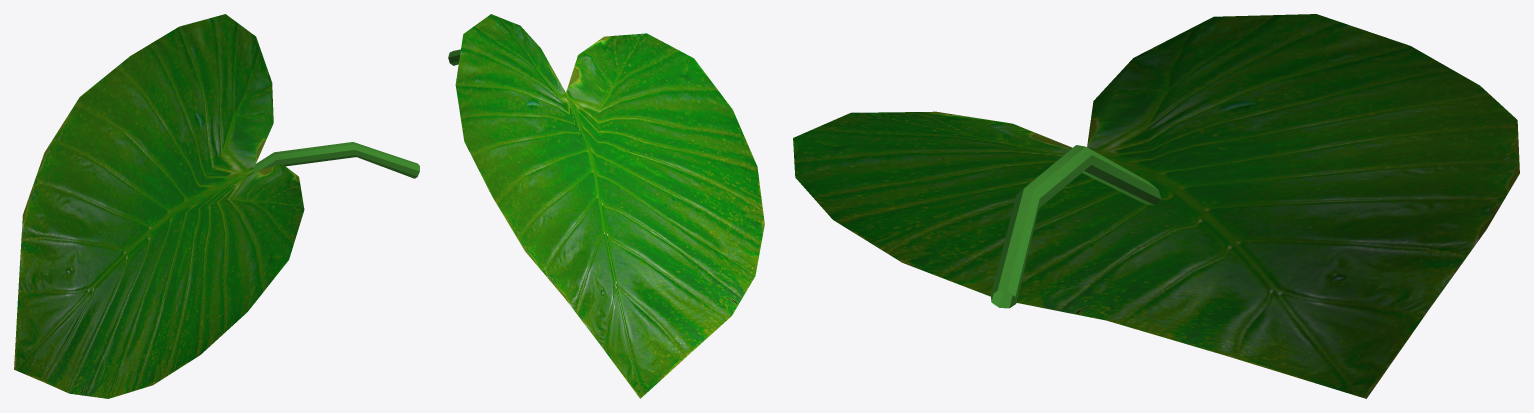
The model's file is env_amazon_leaves_01.fbx.
The picture shows the model from 3 angles, left to right: view 1: azimuth 30°, elevation 25°; view 2: azimuth 150°, elevation 25°; view 3: azimuth 270°, elevation 25°; orthographic projection. The views are drawn at different scales.
Parts seen in each view (by area): view 1: env_amazon_leaves_01; view 2: env_amazon_leaves_01; view 3: env_amazon_leaves_01.
Boxes of the visible parts, <box> form: env_amazon_leaves_01: <box>14,14,419,398</box>; env_amazon_leaves_01: <box>448,14,764,398</box>; env_amazon_leaves_01: <box>793,14,1519,398</box>.
Size of the model in its own units: 1.44 by 1.36 by 1.63.
1 material, 1 textured.
